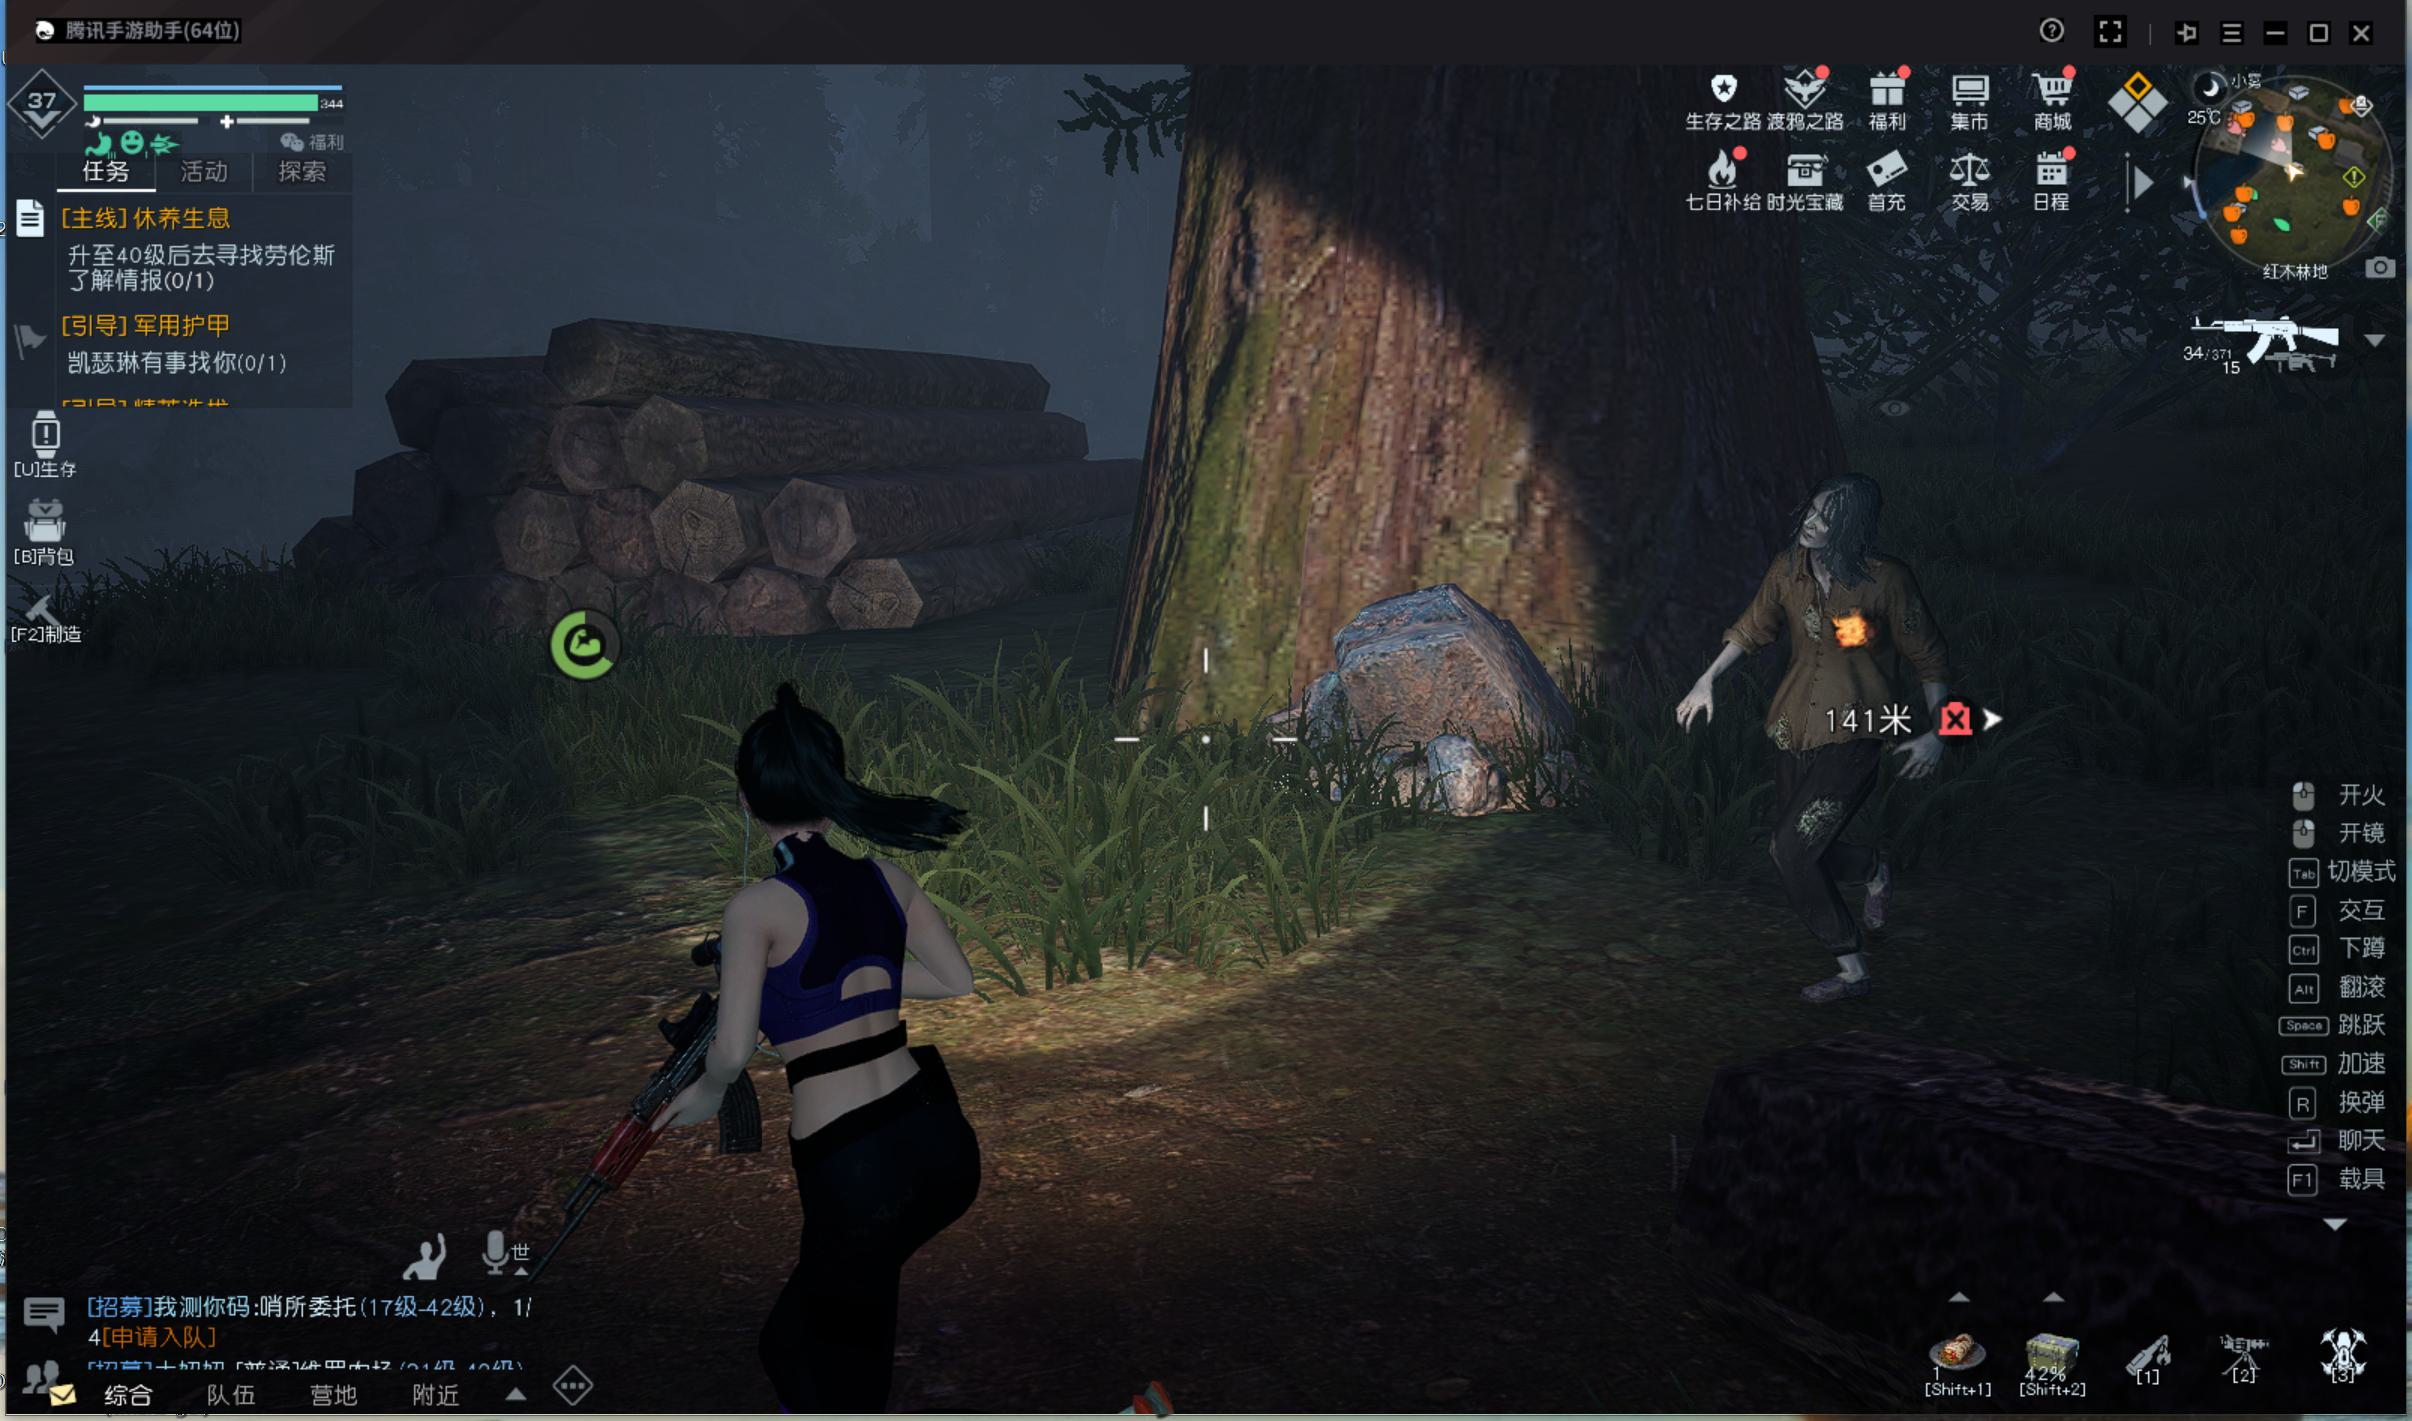stone: (1216, 584, 1580, 844)
